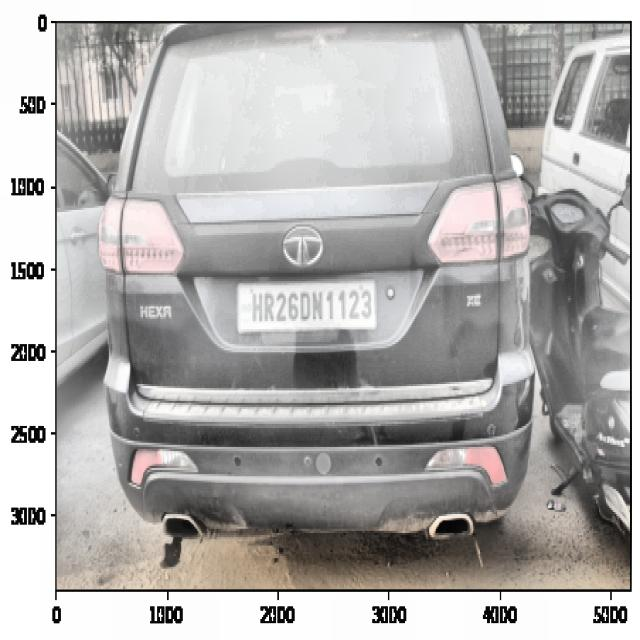license_plate: (246, 282, 375, 328)
